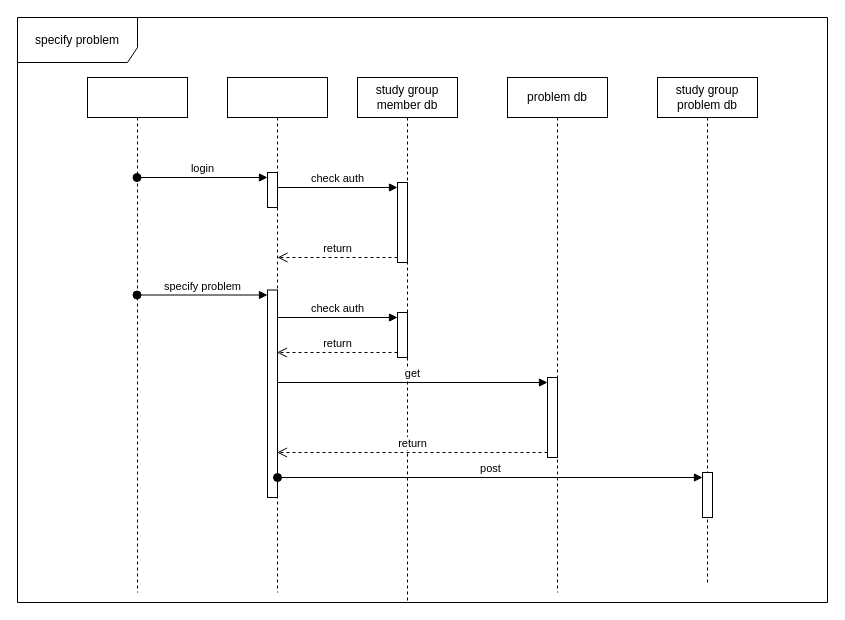
Some shapes in this 845 by 620 pixel diagram are drawn without their labels. The shapes that lost their labels are listed below. From the top down, each one's box as (x1, y1, x2, y2) in pixels, then its label:
(86, 76, 188, 592): user
(226, 76, 328, 592): Study group Svc
